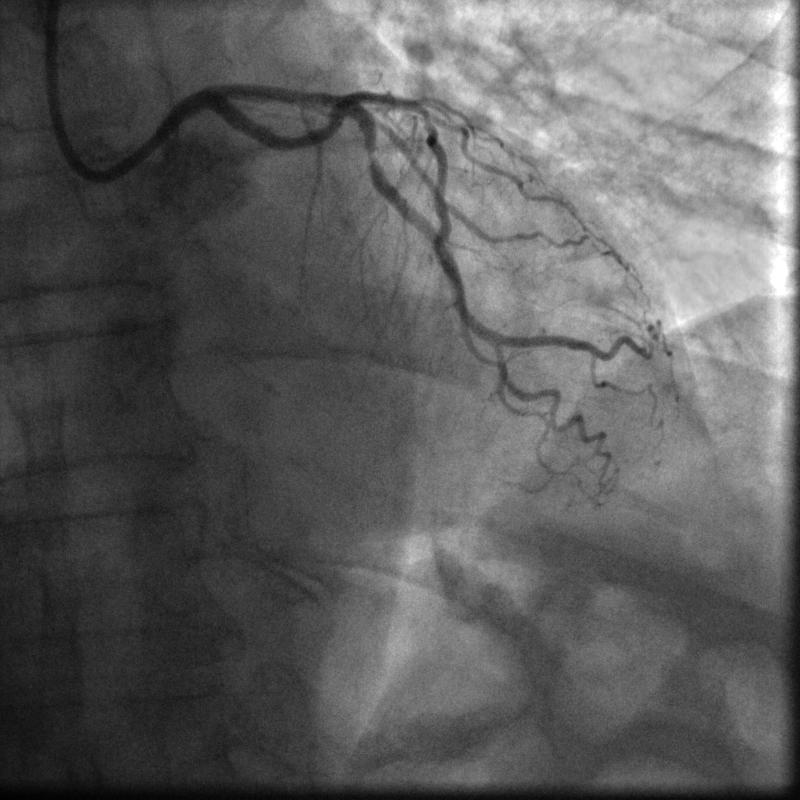Stenosis: (364, 144, 379, 167)
